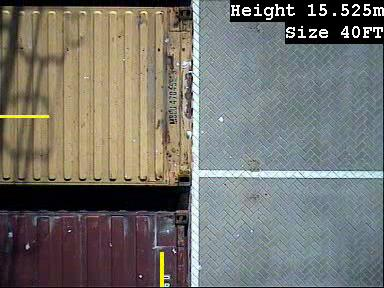groundmarker_2: (198, 129, 241, 181)
